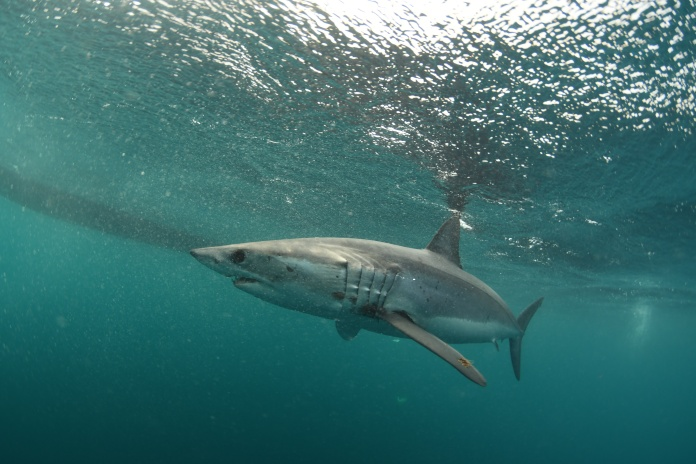Mako: (184, 211, 548, 397)
